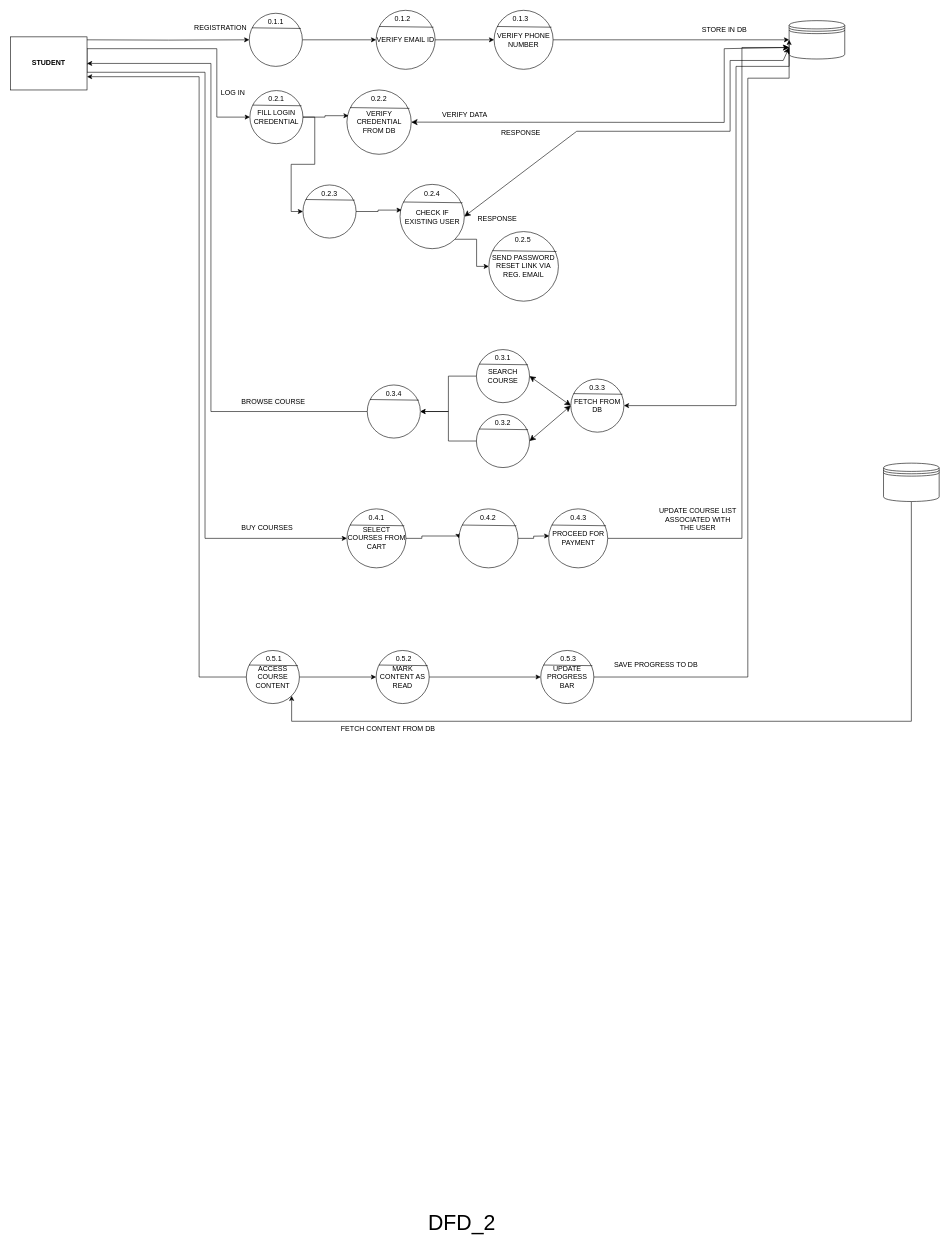
Some shapes in this 950 by 1251 pixel diagram are drawn without their labels. The box of each missing label's shape, as (x1, y1, x2, y2) in pixels:
COURSE DB ( NON-RDBMS ): (883, 463, 939, 502)
ENTER PAYMENT DETAILS: (458, 508, 518, 568)
FILL REGISTRATION DETAILS: (249, 13, 302, 66)
RESET PASSWORD: (302, 184, 356, 238)
SELECT GENRE: (476, 414, 530, 468)
SORT COURSES: (367, 384, 420, 438)
USER DB ( RDBMS): (789, 20, 845, 59)
